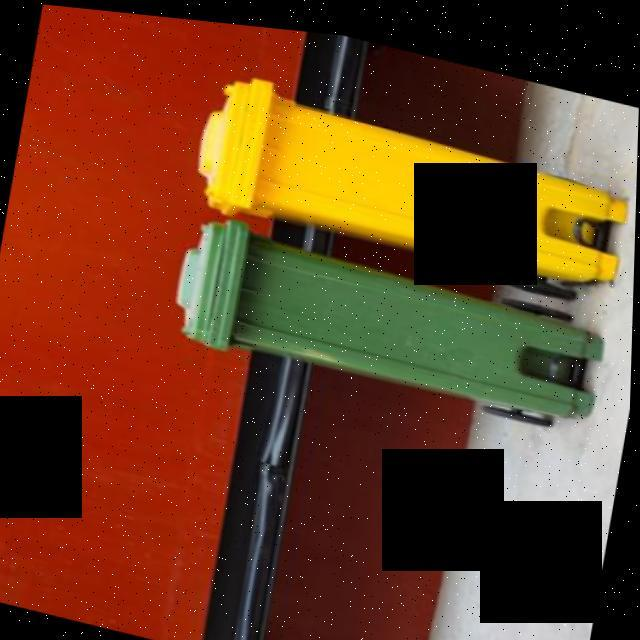bin: (170, 52, 639, 305), (158, 200, 636, 448)
